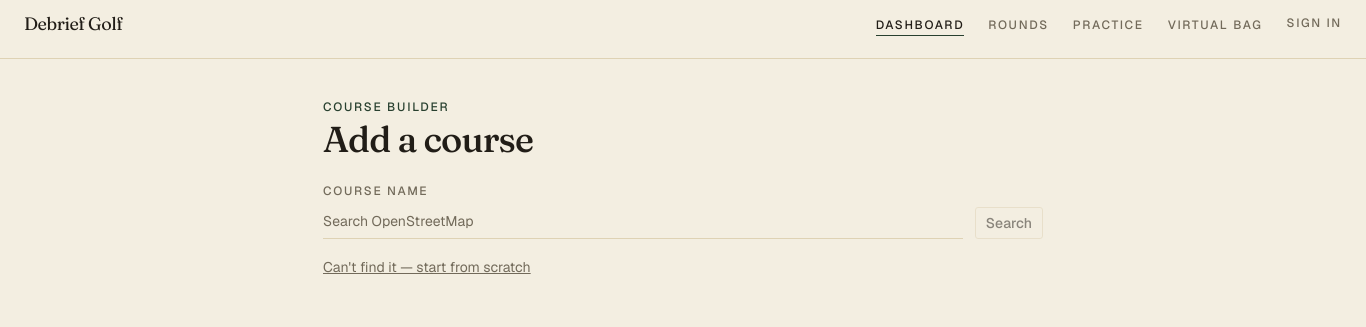
Test: NewCoursePage › shows a message when search returns no results
In the field with placeholder "Search OpenStreetMap": (643,221) [323, 203, 963, 239], type "Nowhere GC"
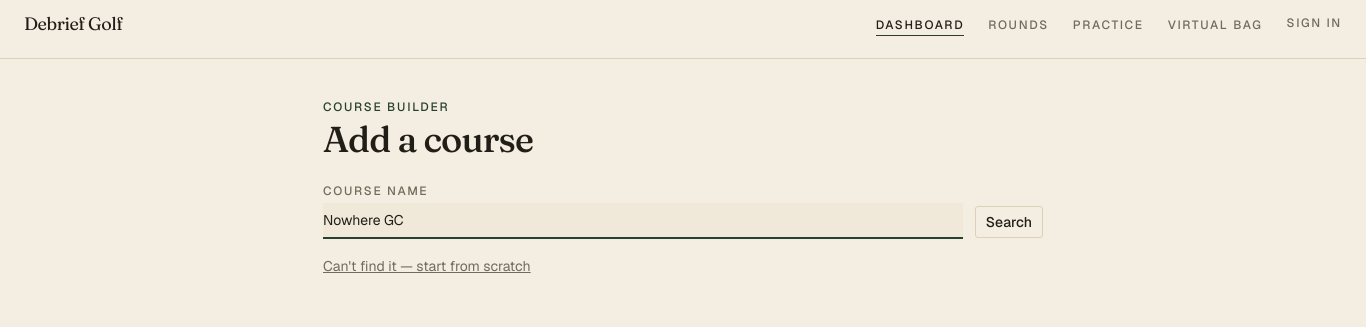
Click the button "Search": (1009,222) [975, 206, 1043, 238]
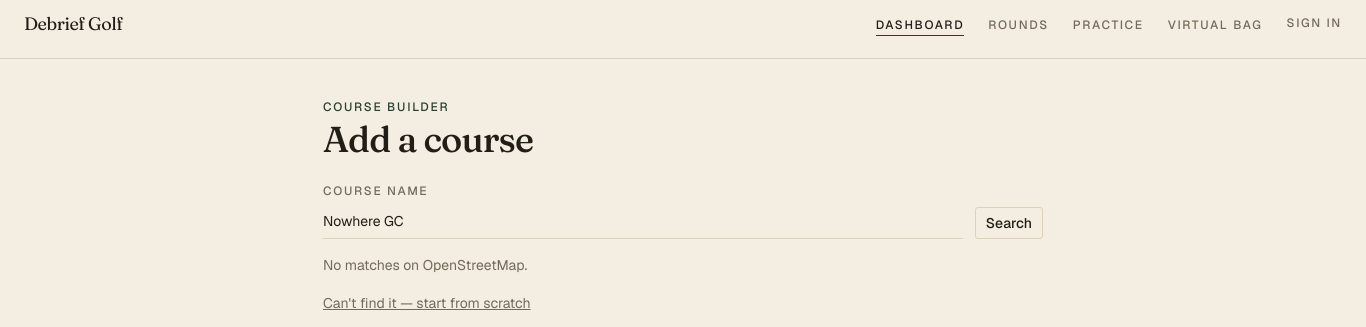
Expected: the text "No matches on OpenStreetMap." is shown, [323, 256, 527, 274]
